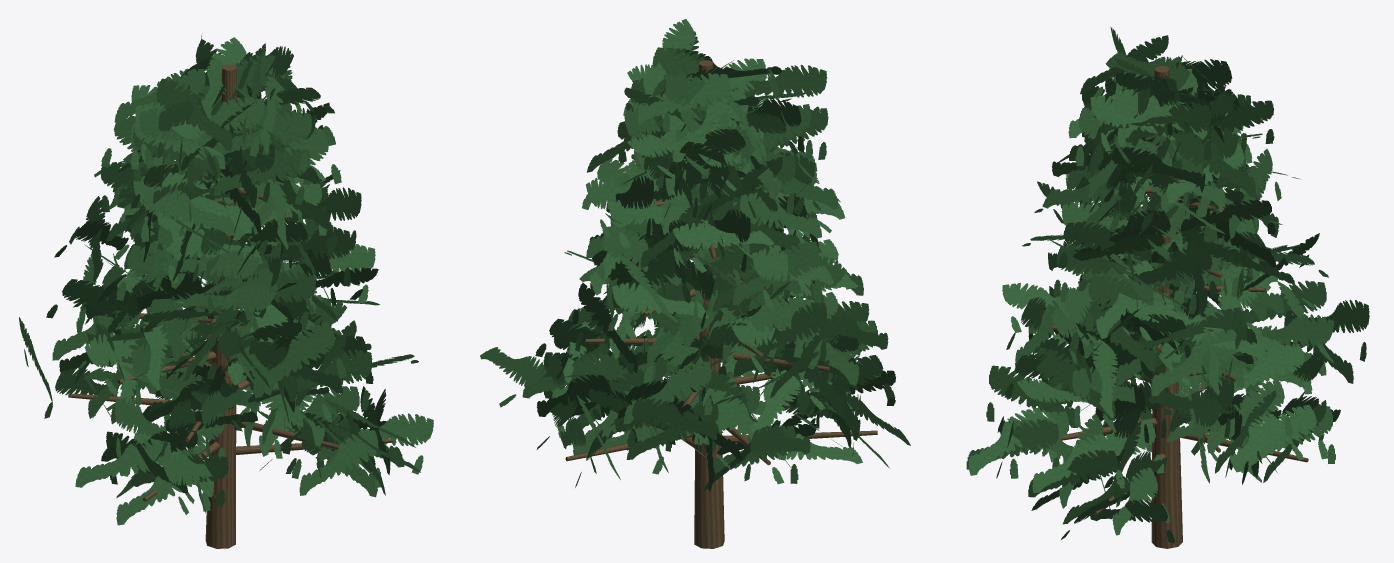
3 renders of one model, left to right at view 1: azimuth 30°, elevation 25°; view 2: azimuth 150°, elevation 25°; view 3: azimuth 270°, elevation 25°, orthographic.
Visible parts, largest first — view 1: pine-needle, pine-bark; view 2: pine-needle, pine-bark; view 3: pine-needle, pine-bark.
Boxes of the visible parts, x1,y1,x2,y2 form: pine-needle: (19, 33, 433, 525); pine-bark: (68, 64, 393, 548); pine-needle: (480, 19, 910, 491); pine-bark: (565, 60, 877, 548); pine-needle: (966, 27, 1369, 543); pine-bark: (1052, 66, 1308, 548).
Bounding box in the file's own units: 8.43 × 10.5 × 8.26.
Materials: 2 (2 with a texture image).
